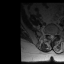CCS_normal: (51, 31, 53, 40)
LFS_stenosis: (54, 31, 56, 36)
LLS_normal: (53, 32, 55, 38)
RFS_stenosis: (47, 31, 49, 36)
RLS_normal: (49, 31, 51, 38)
